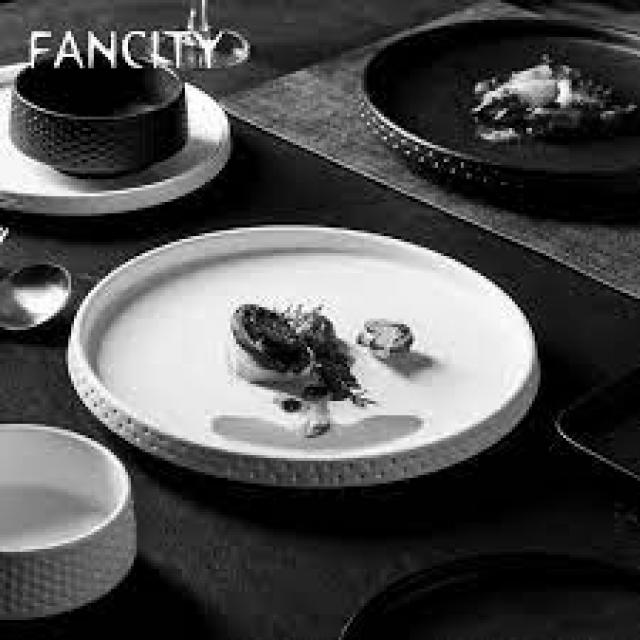dish: (45, 170, 555, 510)
